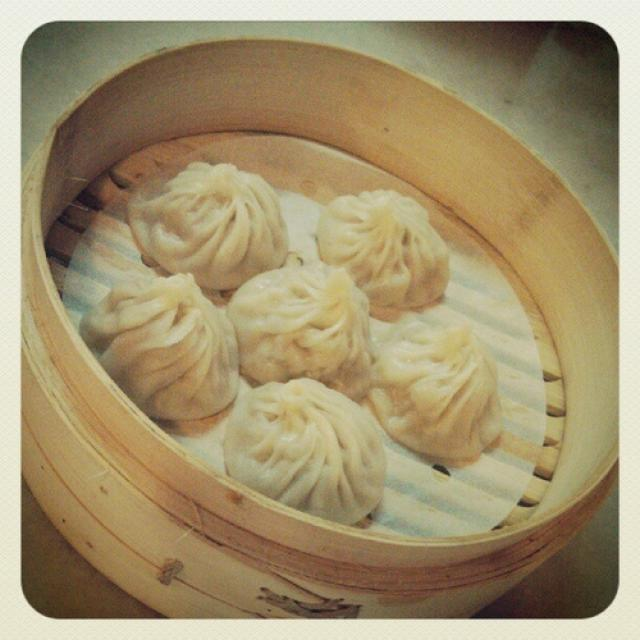带馅早点: (59, 90, 539, 564)
